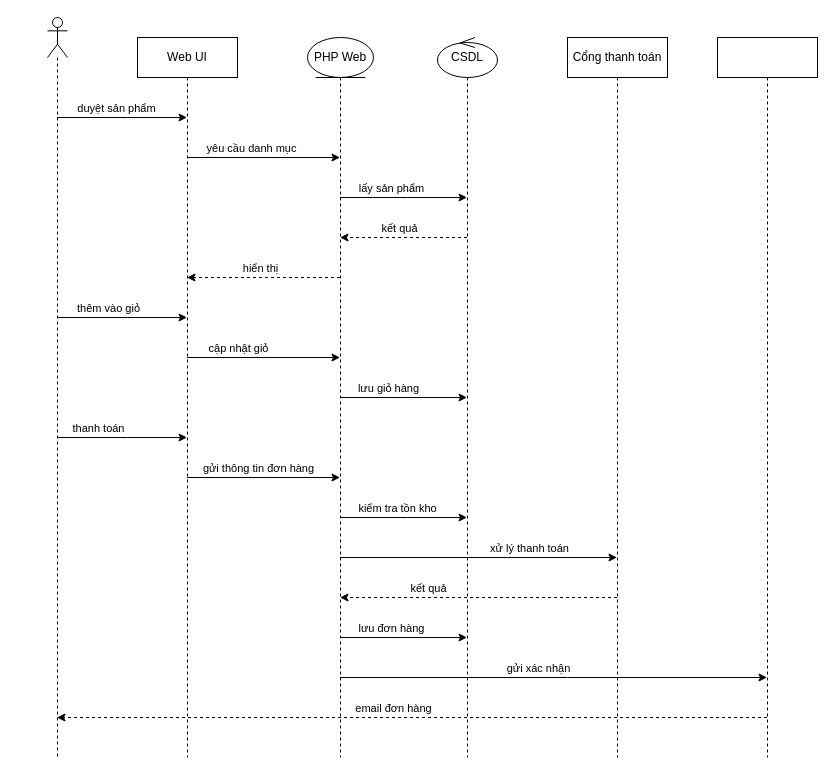
Image size: 835x775. Some labels were removed from this diagram. Each missing label, with the box of its shape:
Email: (716, 36, 818, 758)
KhachHang: (46, 16, 68, 758)
